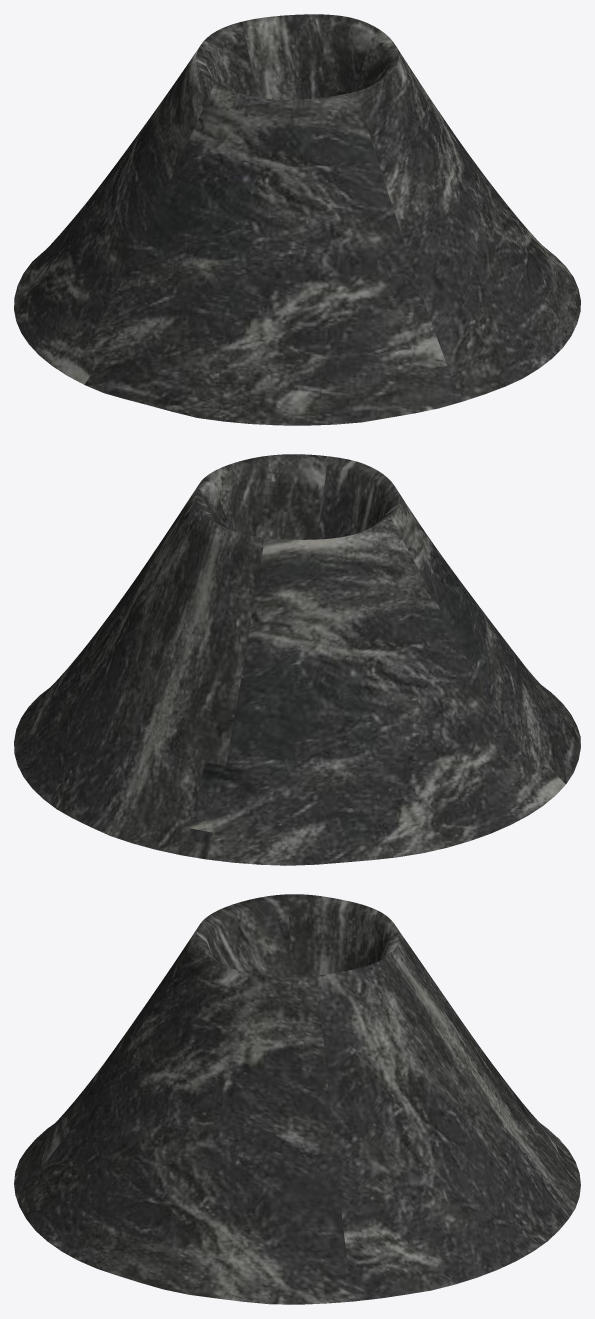
Rendered from volcano_cinder_cone_mid.glb.
3 renders of one model, top to bottom at view 1: azimuth 30°, elevation 25°; view 2: azimuth 150°, elevation 25°; view 3: azimuth 270°, elevation 25°, orthographic.
Parts seen in each view (by area): view 1: Volcano_CinderCone; view 2: Volcano_CinderCone; view 3: Volcano_CinderCone.
Boxes of the visible parts, <box> form: Volcano_CinderCone: <box>14,14,580,425</box>; Volcano_CinderCone: <box>14,454,580,865</box>; Volcano_CinderCone: <box>14,894,580,1304</box>.
Size of the model in its own units: 2 by 0.9801 by 2.
Materials: 2 (2 with a texture image).
